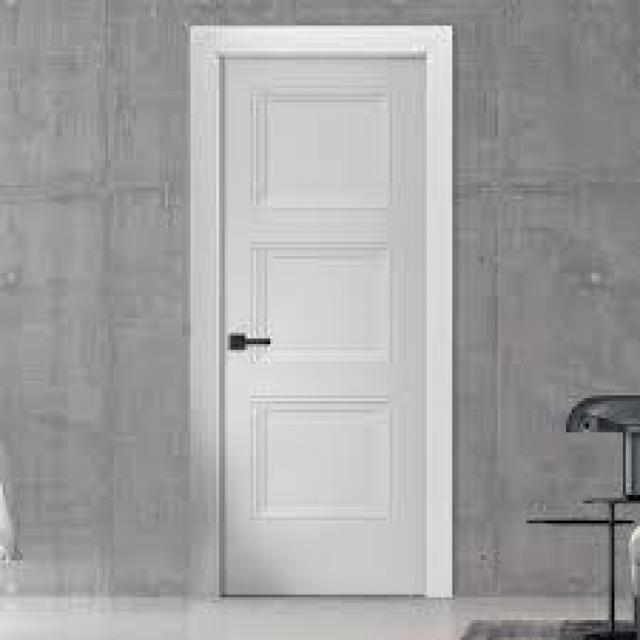close: (176, 20, 458, 603)
